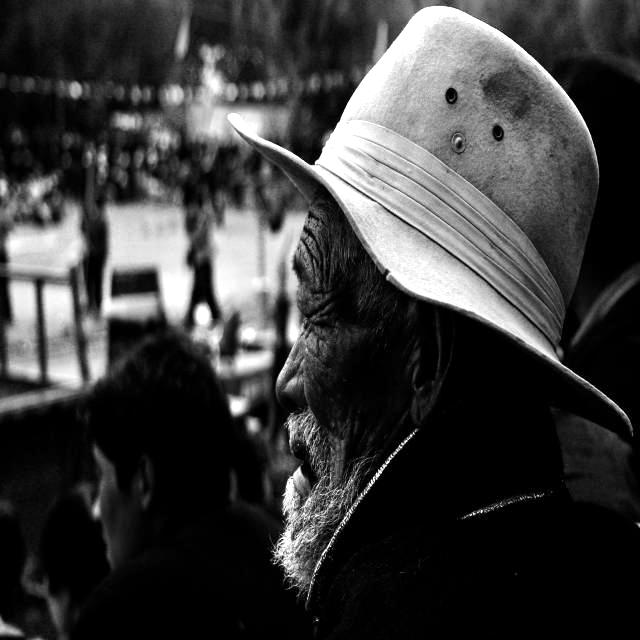no_hard_hat: (229, 7, 632, 439)
no_head_wear: (87, 331, 244, 514)
person: (230, 8, 640, 640), (69, 333, 304, 640)
